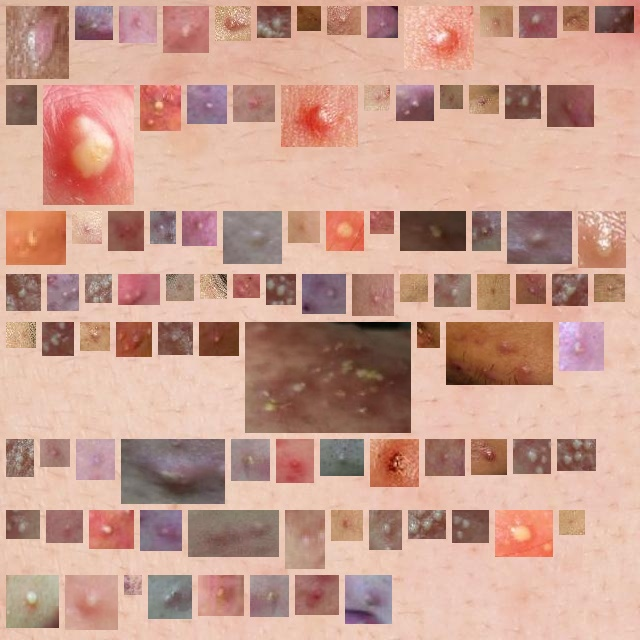pustule: (253, 330, 403, 425), (51, 93, 126, 197), (129, 447, 217, 496), (454, 330, 545, 377), (289, 93, 350, 139), (14, 14, 61, 71), (412, 14, 466, 62), (196, 518, 271, 549), (515, 219, 564, 256), (14, 219, 58, 257), (231, 219, 274, 256), (73, 583, 110, 622), (14, 583, 51, 620), (586, 219, 618, 260), (503, 518, 545, 549), (408, 219, 458, 243), (378, 447, 411, 479), (293, 518, 317, 561), (353, 583, 384, 616), (567, 330, 596, 363), (171, 14, 201, 45), (555, 93, 586, 119), (156, 583, 184, 611), (148, 93, 173, 123), (206, 583, 236, 608), (360, 282, 386, 308), (310, 282, 338, 306), (303, 583, 331, 607), (97, 518, 126, 541), (148, 518, 174, 543), (284, 447, 306, 475), (239, 447, 262, 473), (258, 583, 281, 609), (328, 447, 356, 468), (84, 447, 107, 472), (195, 93, 219, 116), (241, 93, 267, 114), (334, 219, 356, 243), (433, 447, 457, 468), (116, 219, 136, 243), (190, 213, 209, 238), (127, 14, 149, 35), (223, 14, 243, 37), (404, 93, 426, 113), (207, 330, 231, 348), (521, 447, 543, 466), (377, 518, 394, 542), (479, 447, 499, 467), (14, 282, 33, 303), (83, 14, 105, 32), (126, 282, 152, 297), (124, 330, 144, 349), (565, 447, 588, 463), (14, 93, 29, 117), (513, 93, 533, 111), (442, 282, 463, 299), (54, 518, 75, 535), (460, 518, 481, 535), (527, 14, 549, 30), (485, 282, 502, 302), (55, 282, 71, 303), (166, 330, 185, 347), (560, 282, 580, 298), (480, 219, 493, 243), (265, 14, 283, 30), (50, 330, 66, 348), (416, 518, 438, 531), (14, 447, 26, 469), (296, 219, 312, 235), (488, 14, 505, 29), (603, 14, 626, 25), (375, 14, 390, 30), (339, 518, 355, 533), (80, 219, 94, 236), (154, 219, 168, 236), (335, 14, 353, 27), (14, 518, 32, 531), (274, 282, 288, 297), (524, 282, 538, 296), (477, 93, 491, 106), (88, 330, 102, 343), (602, 282, 617, 294), (48, 447, 62, 459), (408, 282, 420, 294), (93, 282, 104, 295), (14, 330, 28, 340), (174, 282, 186, 293), (372, 93, 382, 103), (208, 282, 219, 291), (571, 14, 581, 23), (567, 518, 577, 527), (241, 282, 252, 290), (305, 14, 313, 23), (425, 330, 432, 340), (448, 93, 455, 101), (378, 219, 386, 226)
